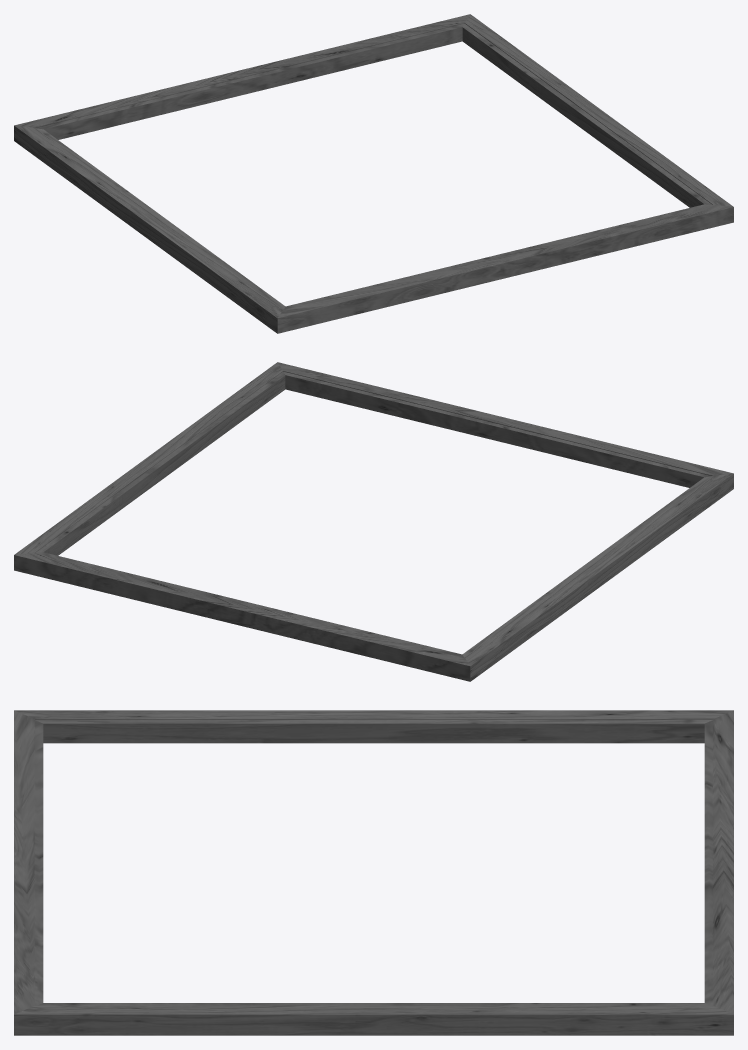
File: Raam100x100-grijs.dae
3 views of the same model, one above another, from view 1: azimuth 30°, elevation 25°; view 2: azimuth 150°, elevation 25°; view 3: azimuth 270°, elevation 25° (orthographic). The views are drawn at different scales.
Parts seen in each view (by area): view 1: Raam_geo; view 2: Raam_geo; view 3: Raam_geo.
Boxes of the visible parts, x1=… form: Raam_geo: x1=14, y1=14, x2=733, y2=333; Raam_geo: x1=14, y1=362, x2=733, y2=681; Raam_geo: x1=14, y1=710, x2=733, y2=1035.
Bounding box in the file's own units: 100 × 3.25 × 100.
Materials: 1 (1 with a texture image).
